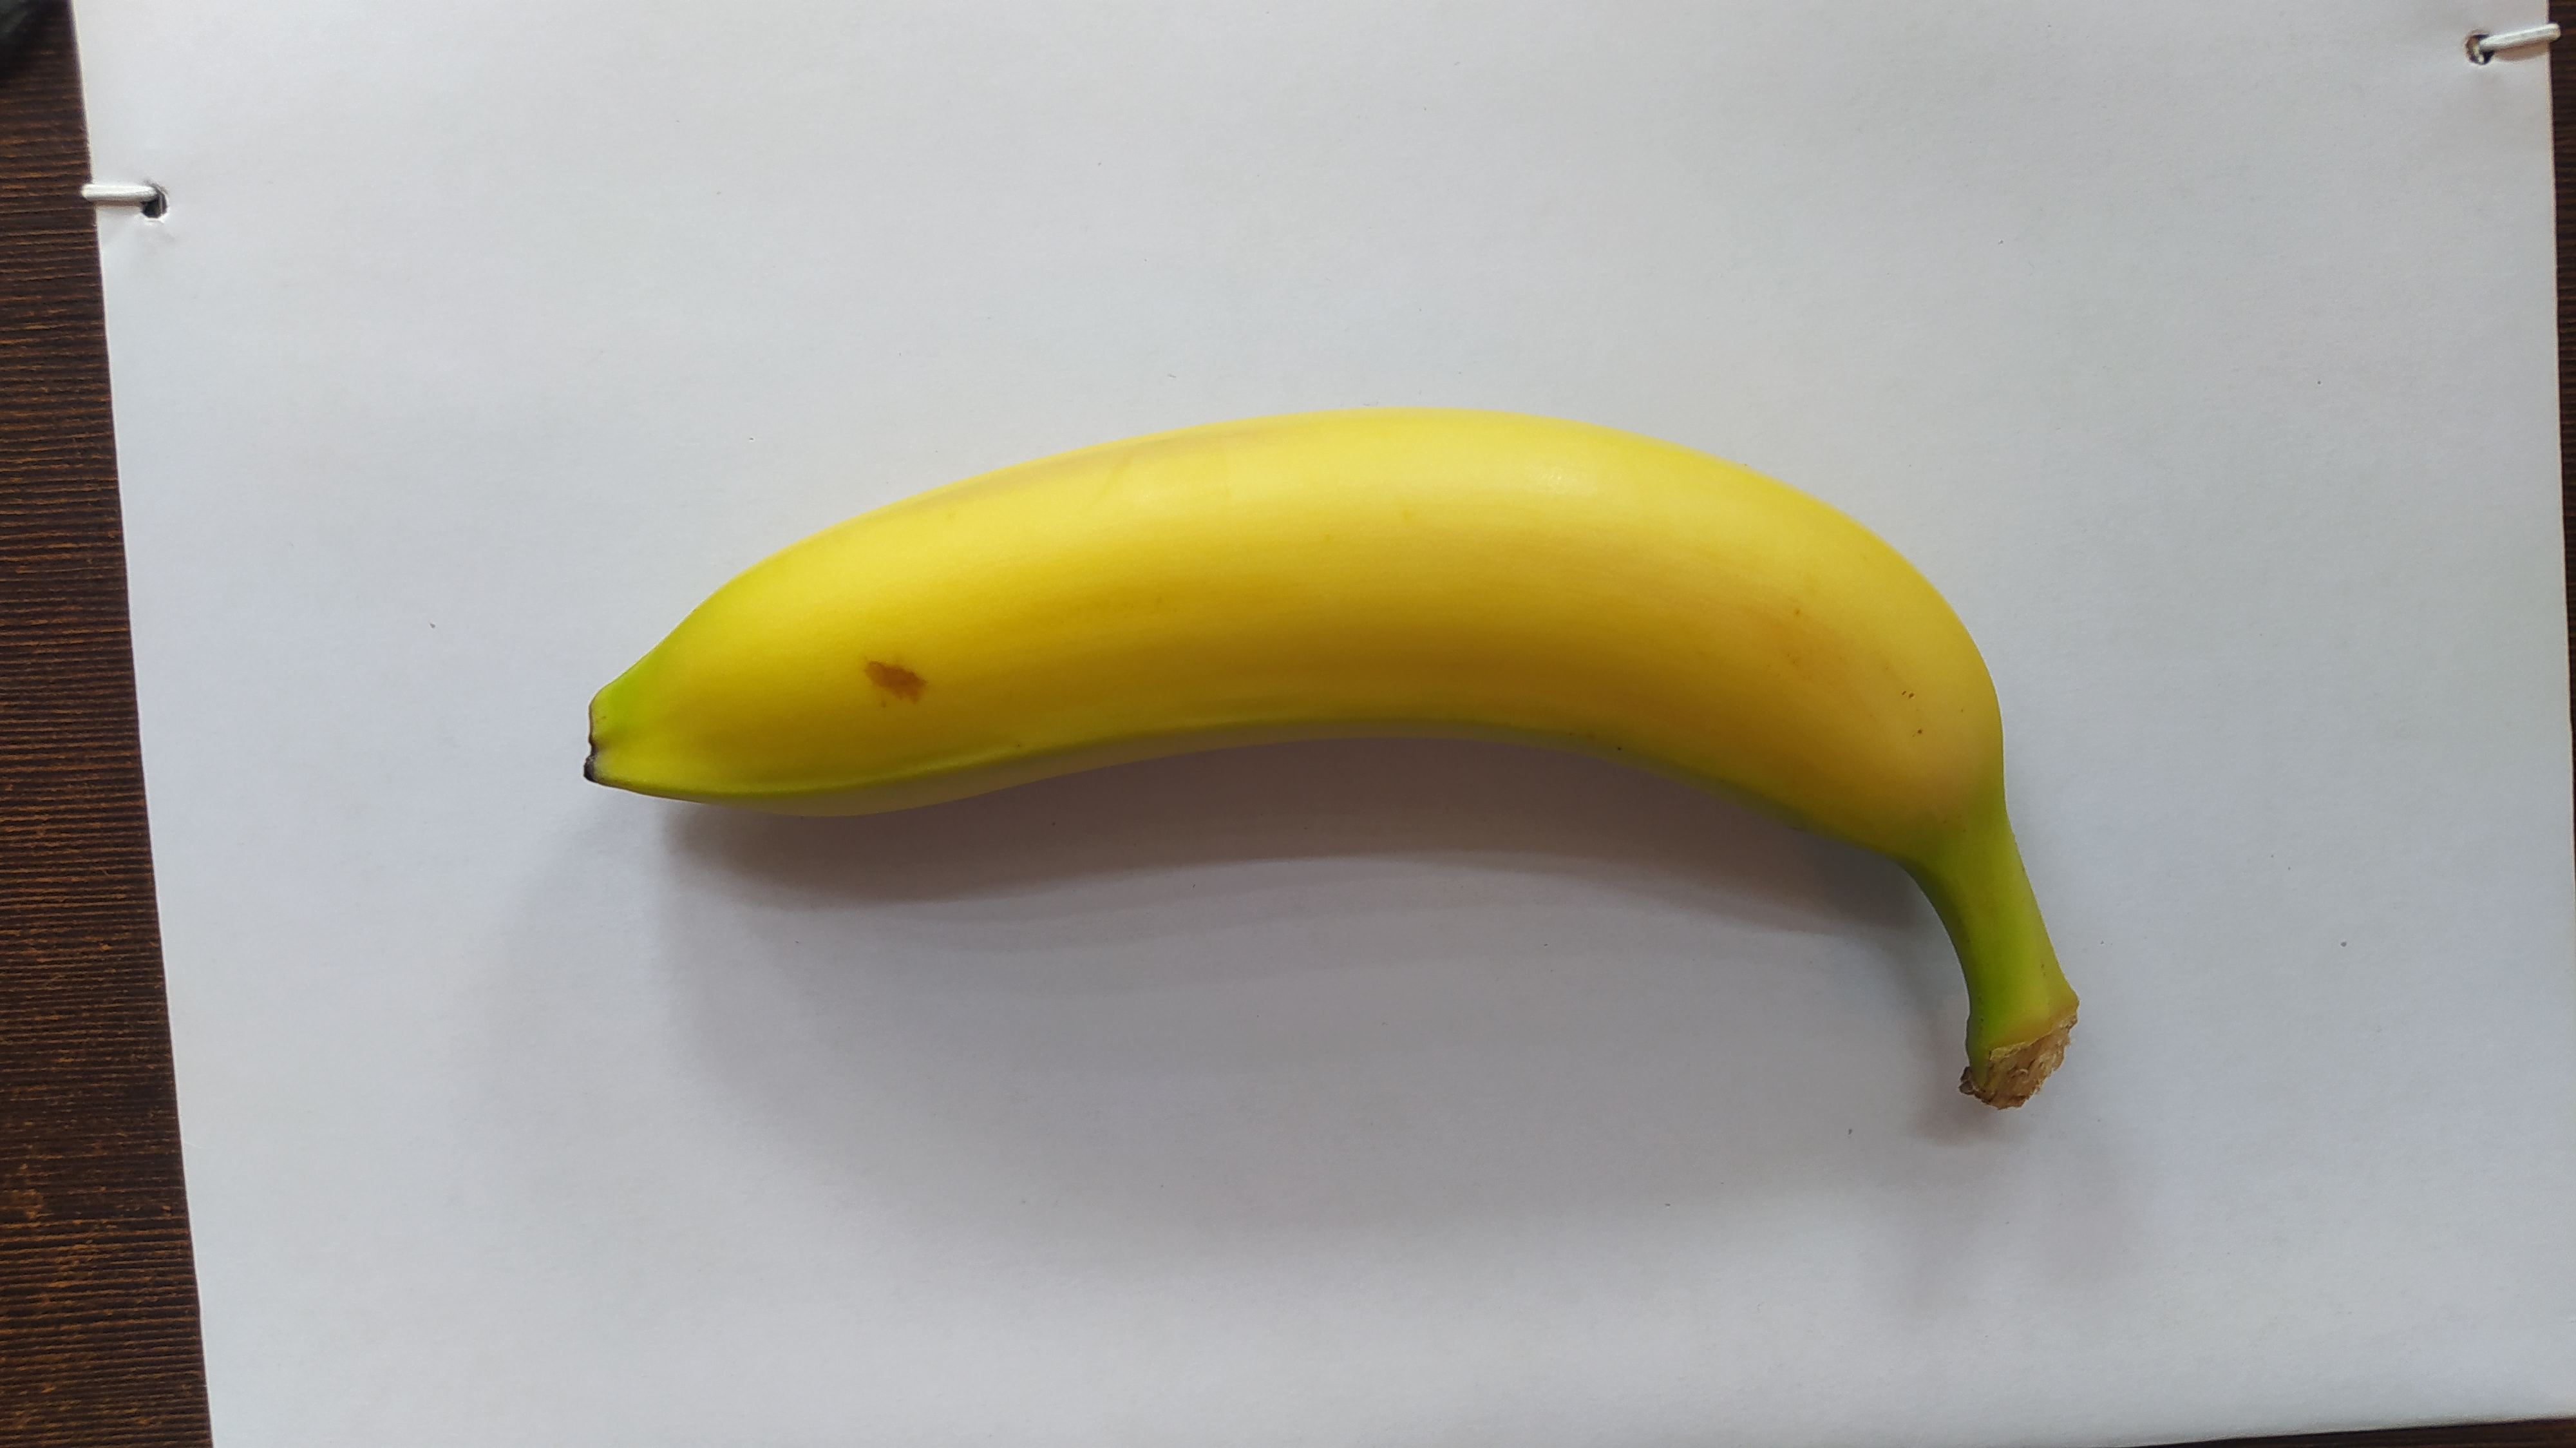banana: (579, 409, 2081, 1119)
